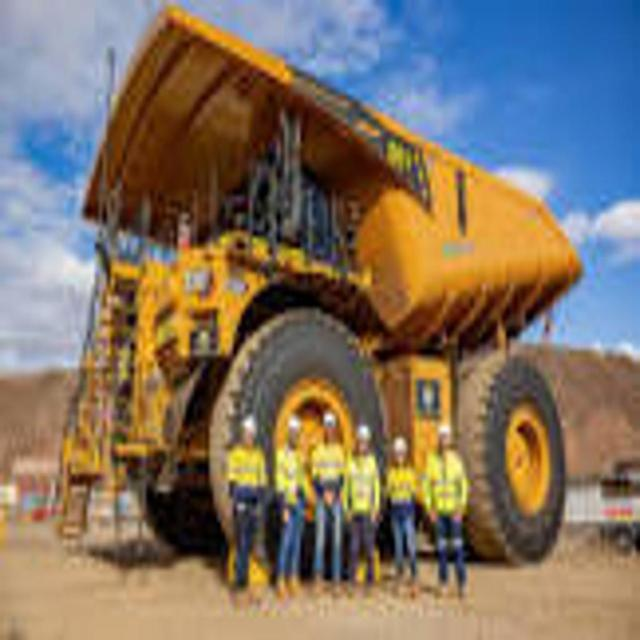dump_truck: (59, 4, 585, 597)
